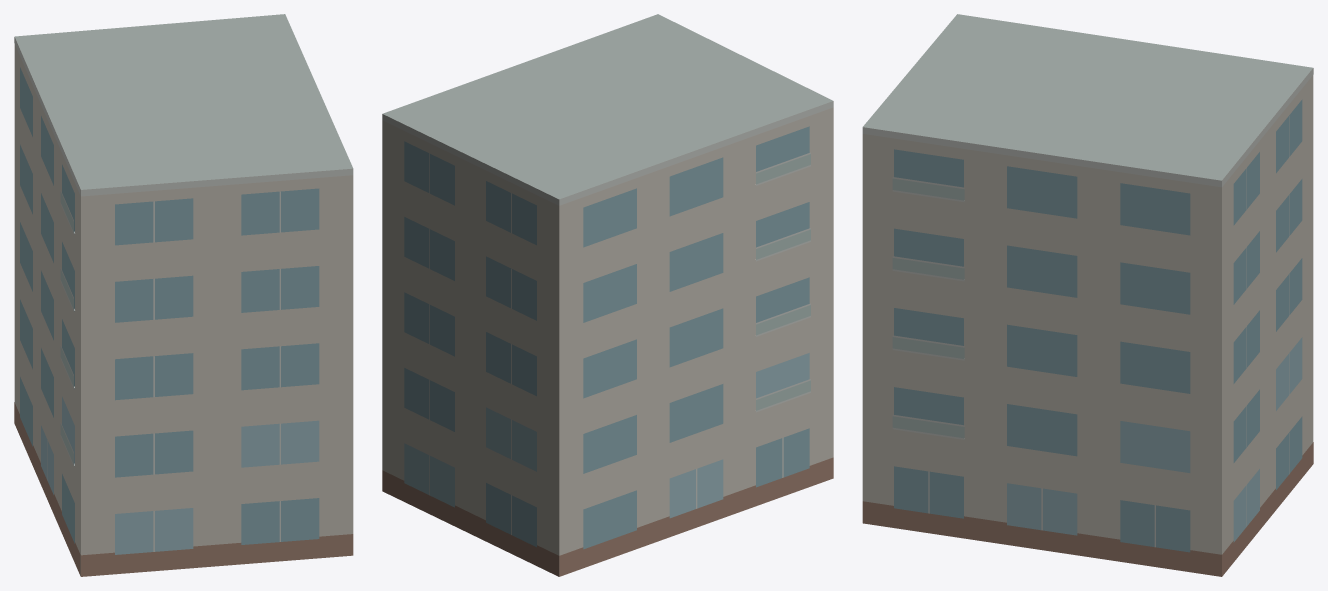
Rendered from survey-upis-32930879.glb.
3 renders of one model, left to right at view 1: azimuth 30°, elevation 25°; view 2: azimuth 150°, elevation 25°; view 3: azimuth 270°, elevation 25°, orthographic. The views are drawn at different scales.
Parts seen in each view (by area): view 1: survey-upis-32930879.tmp; view 2: survey-upis-32930879.tmp; view 3: survey-upis-32930879.tmp.
Boxes of the visible parts, x1,y1,x2,y2 form: survey-upis-32930879.tmp: (14,14,353,576); survey-upis-32930879.tmp: (382,14,833,576); survey-upis-32930879.tmp: (862,14,1313,576).
Bounding box in the file's own units: 13 × 14.4 × 14.86.
